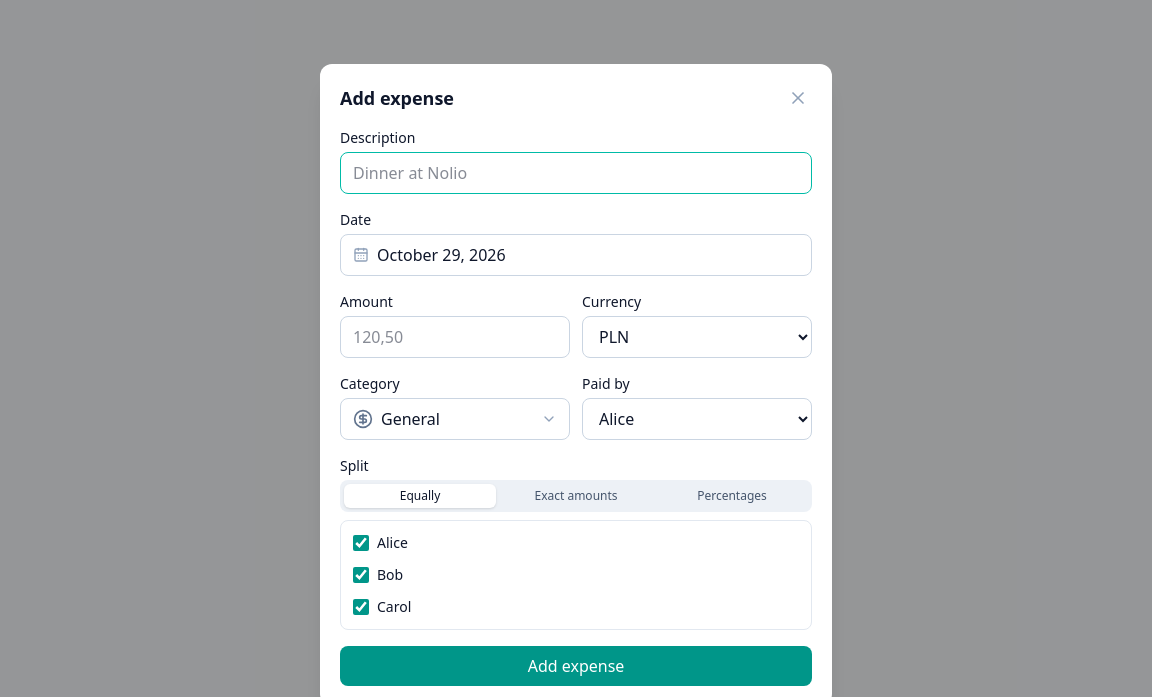
Test: ExpenseFormModal — percentage split autofill › does not autofill while more than one member is still empty
Click the button "Percentages".
click(732, 496)  # box x1=656 y1=484 x2=808 y2=508
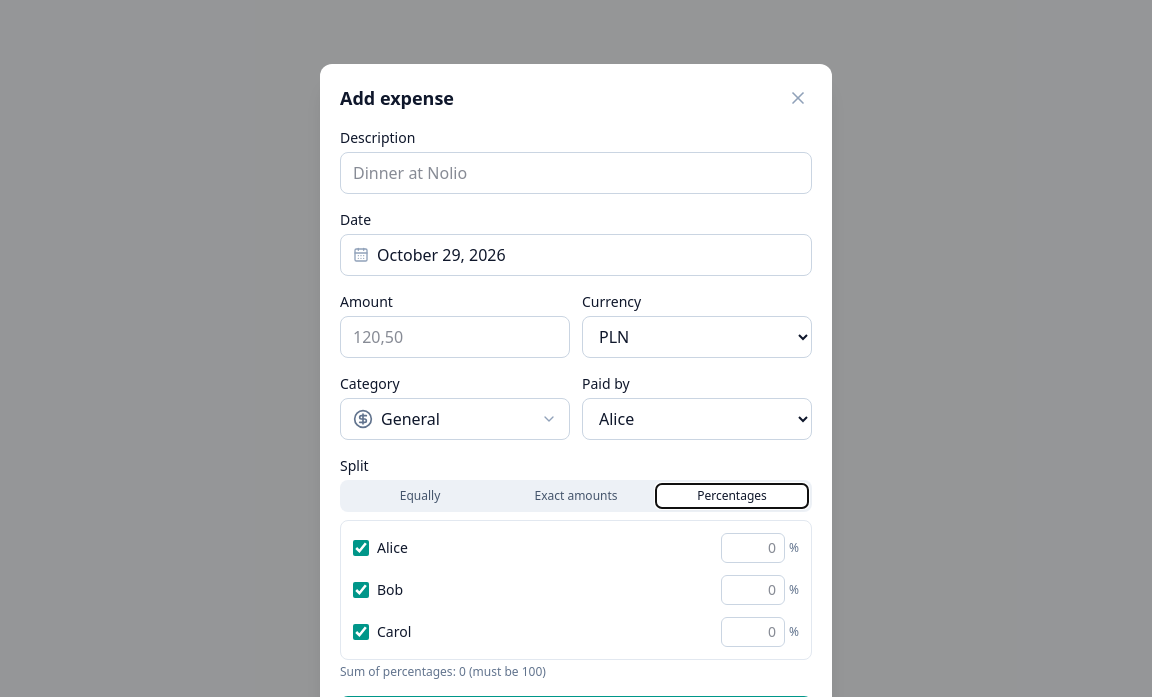
Type "60" into the field with placeholder "0" in the row of "Alice".
click(753, 548); type("60")  # box x1=721 y1=533 x2=785 y2=563
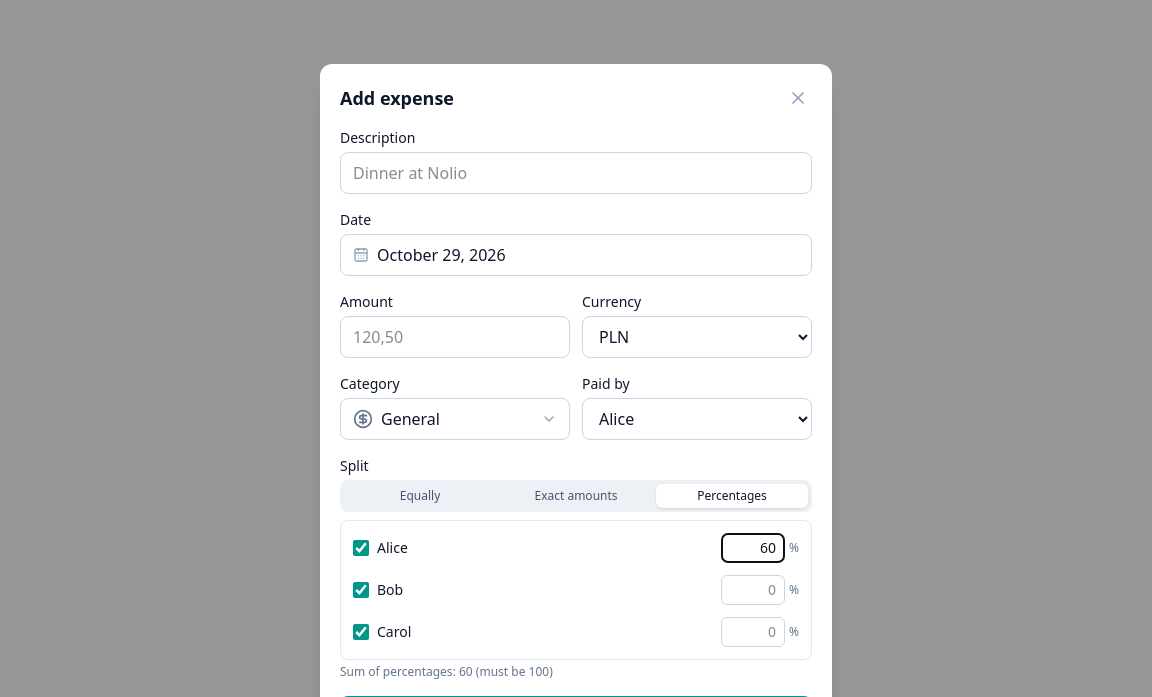
Check: the text "Sum of percentages: 60 (must be 100)" is shown, box x1=340 y1=663 x2=553 y2=680
